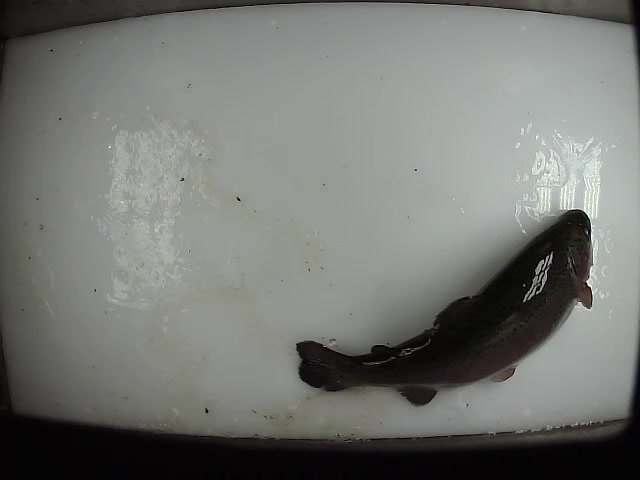fish: (294, 205, 597, 413)
